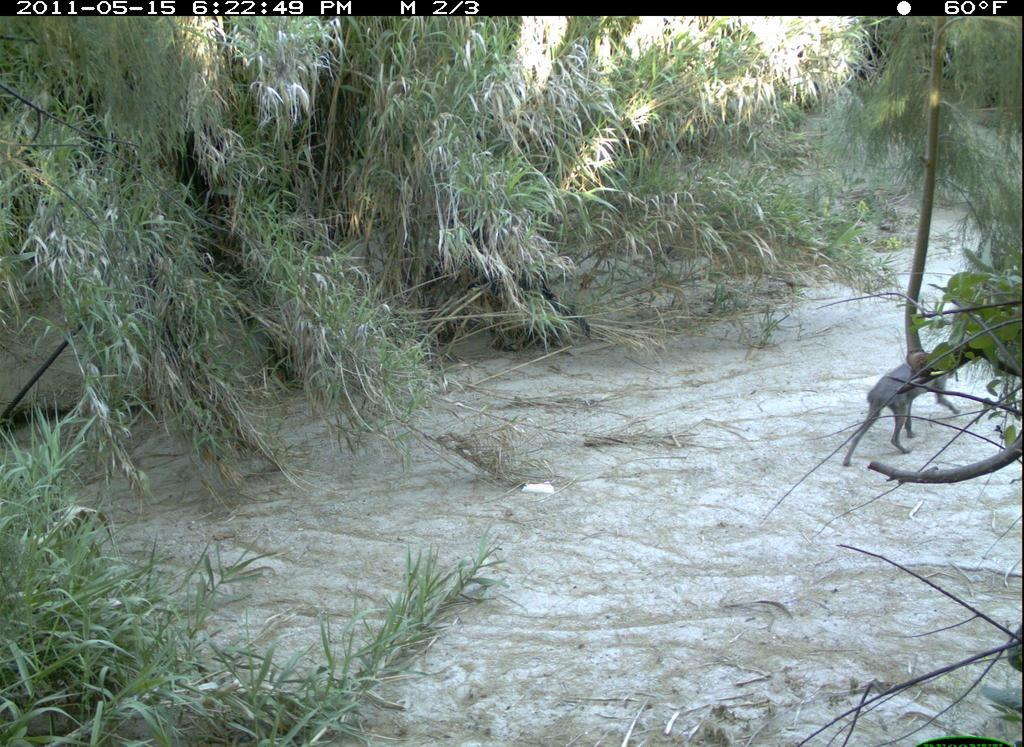coyote: (829, 318, 994, 474)
